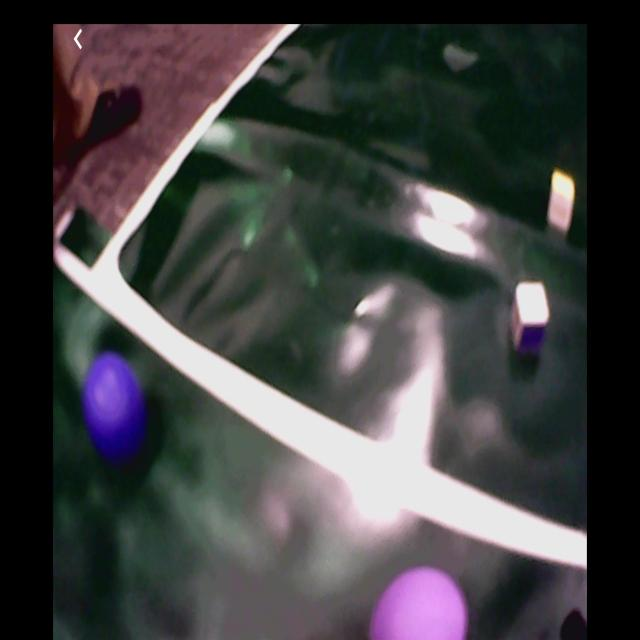ball: (368, 567, 469, 640), (83, 355, 144, 456)
